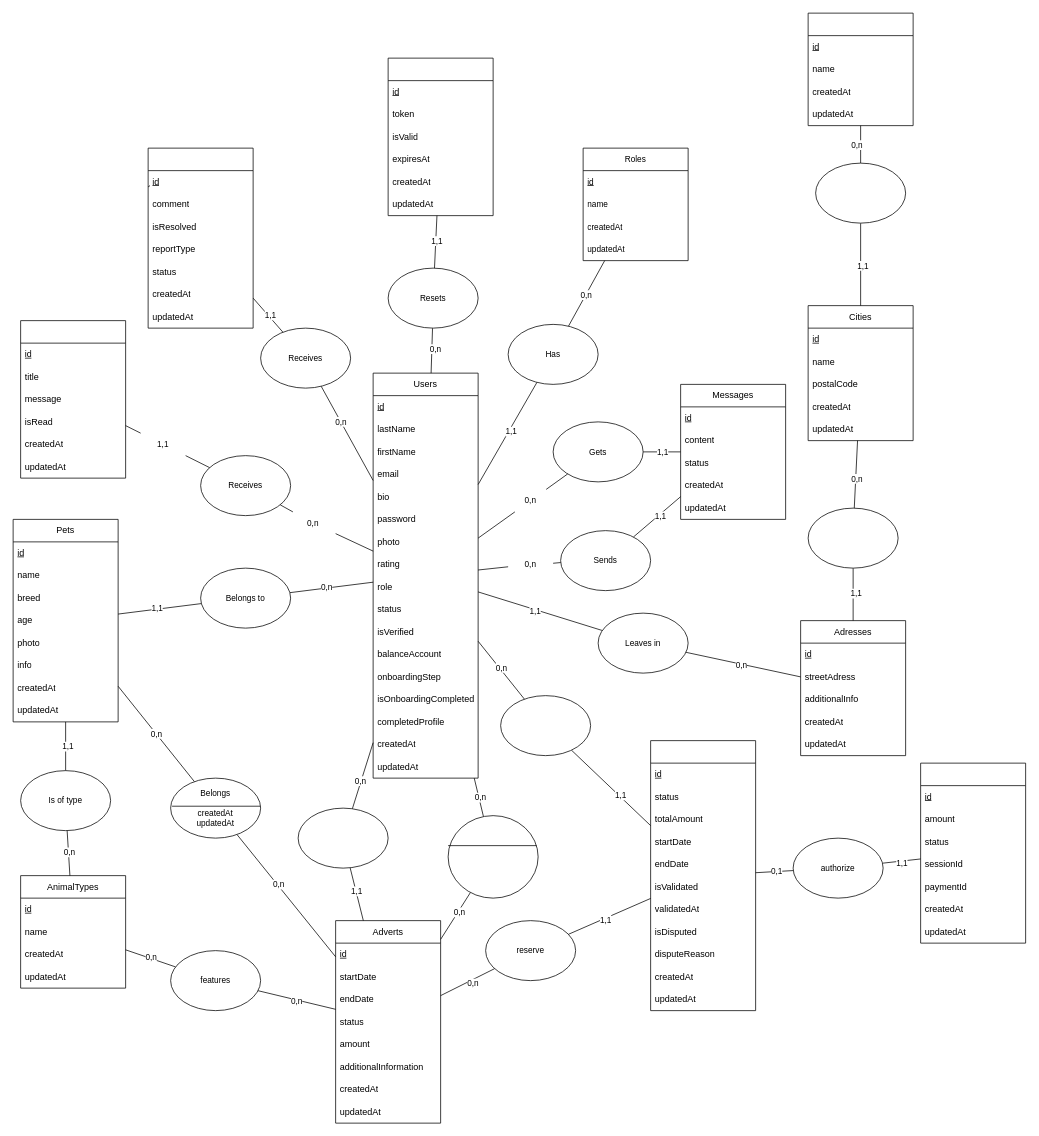
The diagram is 1039 pixels wide and 1136 high, and some of its shapes have lost their labels. The shapes that lost their labels are listed below. From the top down, each one's box as (x1, y1, x2, y2) in pixels, then its label:
(807, 12, 913, 126): Countries
(387, 57, 493, 216): PasswordReset
(815, 162, 906, 223): Is part of
(147, 147, 253, 328): Reports
(20, 320, 126, 478): Notifications
(807, 507, 898, 568): Is located in
(500, 695, 591, 756): initiate
(297, 807, 388, 868): Makes
(447, 815, 538, 898): review rate comment createdAt updatedAt
(920, 762, 1026, 943): Payments
(650, 740, 756, 1011): Bookings
